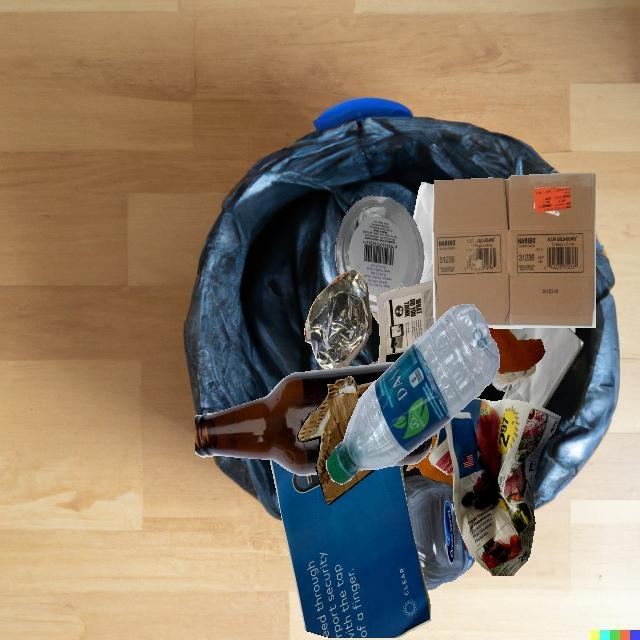biowaste: (488, 328, 545, 374), (406, 436, 453, 487)
cardboard: (432, 173, 596, 328), (297, 375, 379, 504), (369, 361, 378, 365), (432, 432, 437, 436)
glass: (195, 362, 395, 476), (493, 363, 536, 384)
metal: (304, 269, 371, 369)
paper: (270, 460, 431, 638), (429, 397, 561, 576), (492, 328, 584, 408), (376, 280, 434, 364), (413, 182, 434, 280)
plastic: (327, 304, 499, 484), (335, 195, 424, 314), (403, 475, 475, 589), (400, 465, 405, 494), (475, 388, 485, 397), (372, 312, 379, 323)
